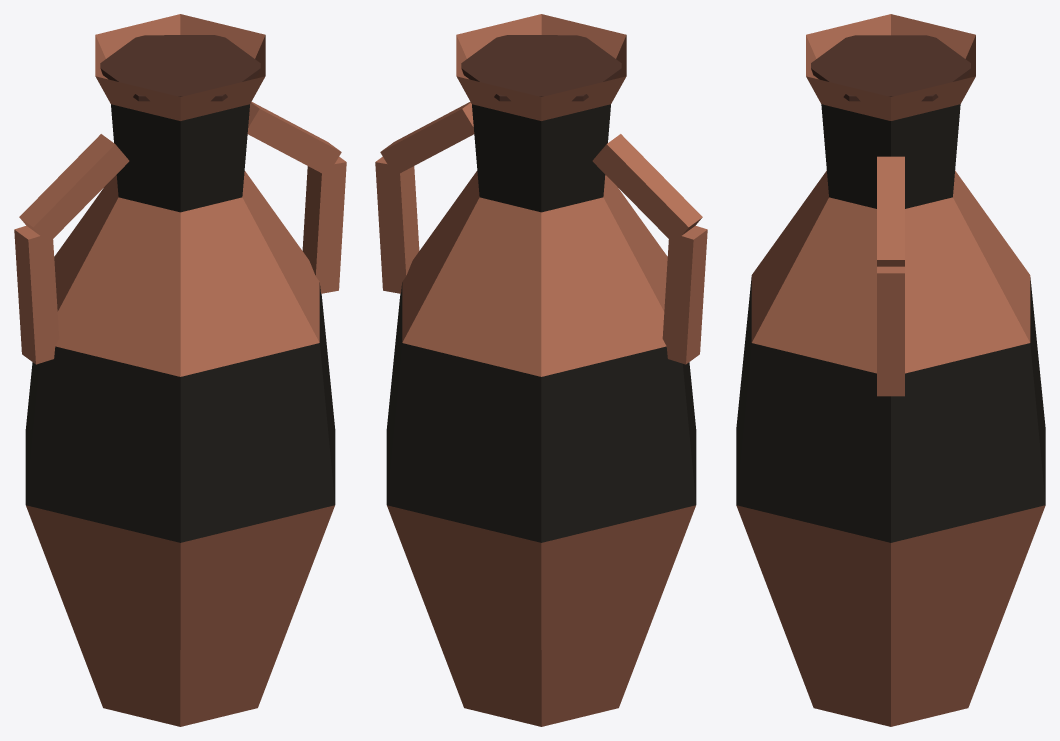
File: vase-20.glb
The picture shows the model from 3 angles, left to right: view 1: azimuth 30°, elevation 25°; view 2: azimuth 150°, elevation 25°; view 3: azimuth 270°, elevation 25°; orthographic projection.
Parts seen in each view (by area): view 1: vase_20; view 2: vase_20; view 3: vase_20.
Part boxes in pixels (x1,y1,x2,y2): vase_20: [14, 14, 346, 726]; vase_20: [375, 14, 707, 726]; vase_20: [736, 14, 1045, 726].
Size of the model in its own units: 0.2608 by 0.4959 by 0.2195.
